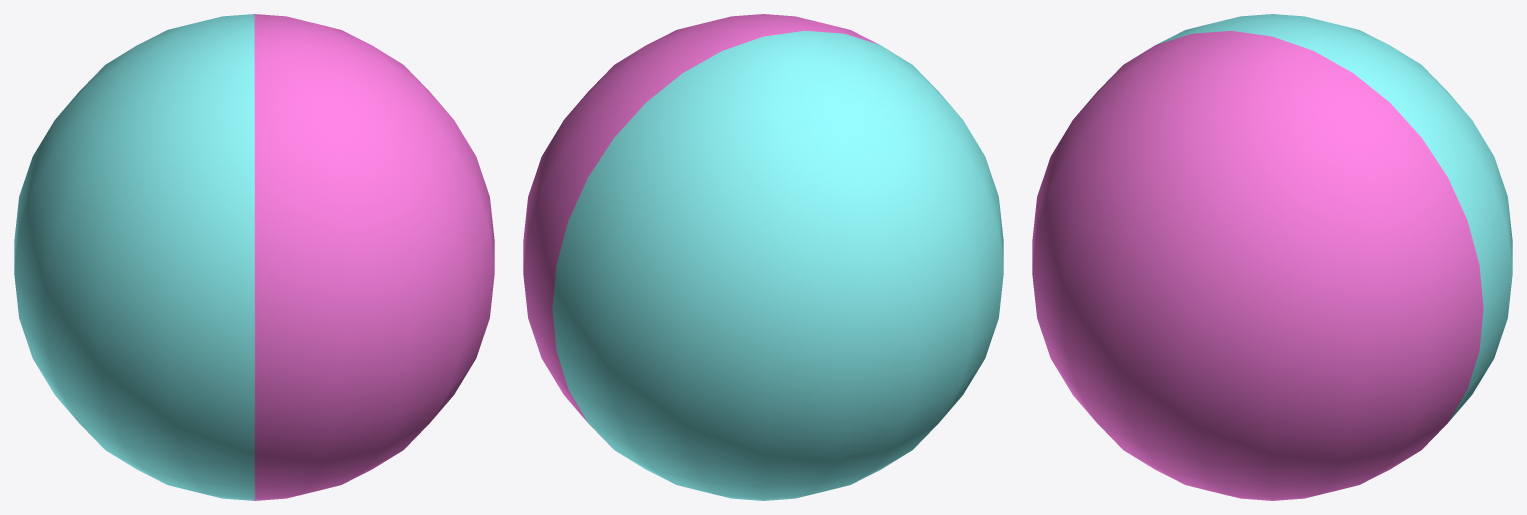
The model's file is ball.fbx.
The picture shows the model from 3 angles, left to right: view 1: azimuth 30°, elevation 25°; view 2: azimuth 150°, elevation 25°; view 3: azimuth 270°, elevation 25°; orthographic projection.
Visible parts, largest first — view 1: pSphere1; view 2: pSphere1; view 3: pSphere1.
Part boxes in pixels (<box>): pSphere1: <box>14,14,494,500</box>; pSphere1: <box>523,14,1003,500</box>; pSphere1: <box>1032,14,1512,500</box>.
Size of the model in its own units: 2.12 by 2.12 by 2.09.
